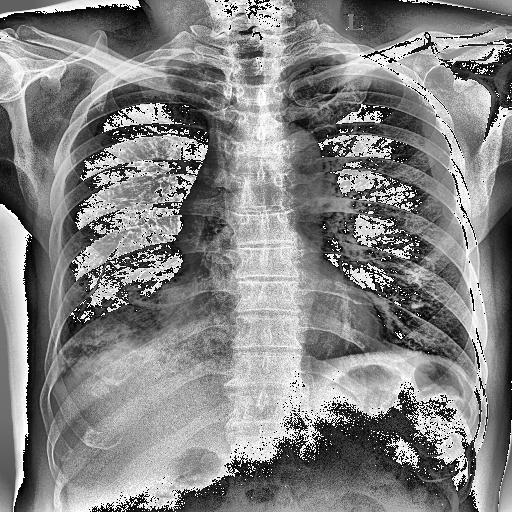0- Aortic enlargement: (175, 120, 328, 208)
10- Pleural effusion: (25, 338, 104, 400)
11- Pleural thickening: (100, 49, 222, 85)
4- Consolidation: (50, 252, 222, 402), (20, 268, 210, 382)
6- Infiltration: (47, 290, 233, 378)
9- Other lesion: (81, 214, 163, 326)
